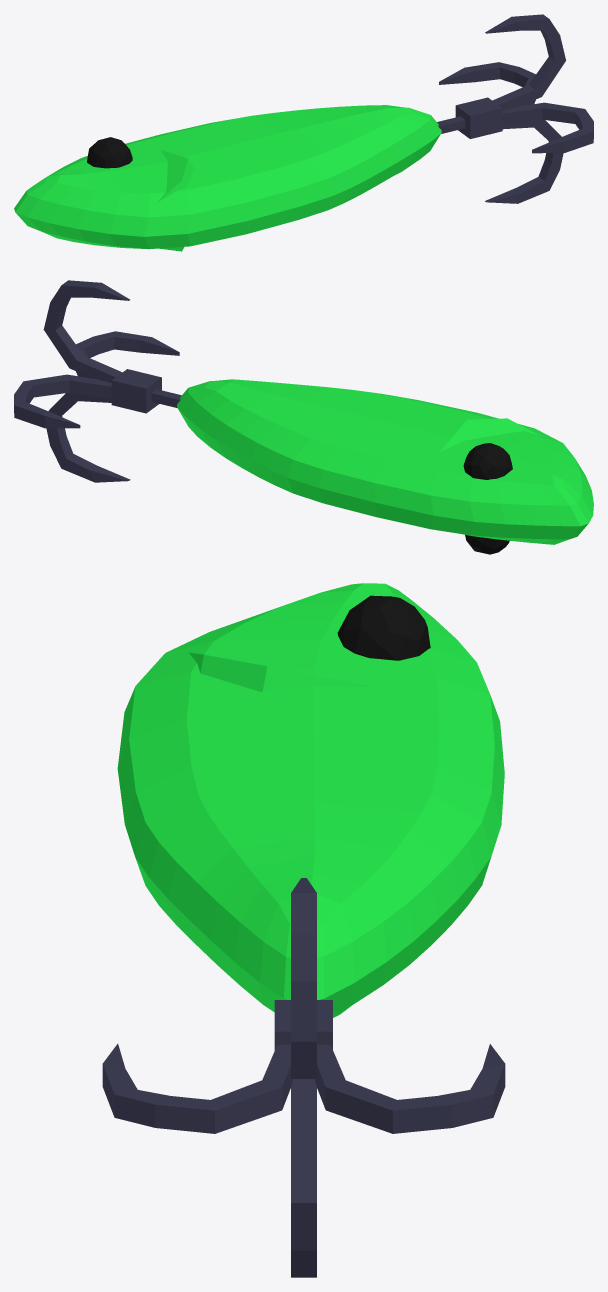
Rendered from lure_1.glb.
The picture shows the model from 3 angles, top to bottom: view 1: azimuth 30°, elevation 25°; view 2: azimuth 150°, elevation 25°; view 3: azimuth 270°, elevation 25°; orthographic projection. The views are drawn at different scales.
Visible parts, largest first — view 1: Lure_1; view 2: Lure_1; view 3: Lure_1.
Part boxes in pixels (x1,y1,x2,y2): Lure_1: (14,14,593,251); Lure_1: (14,280,593,554); Lure_1: (102,583,505,1277).
Size of the model in its own units: 5.6 by 1.85 by 1.85.
